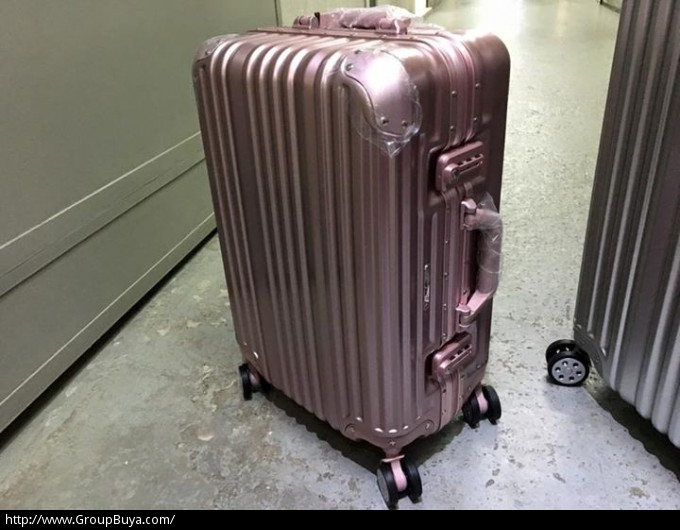suitcase: (193, 8, 512, 510)
